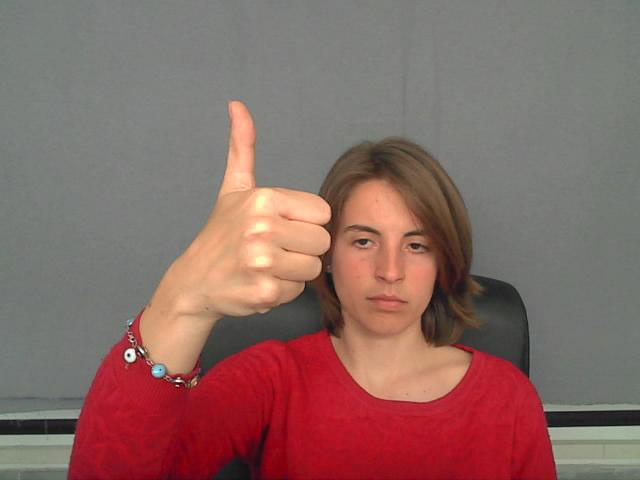thumbs-up: (192, 100, 335, 316)
